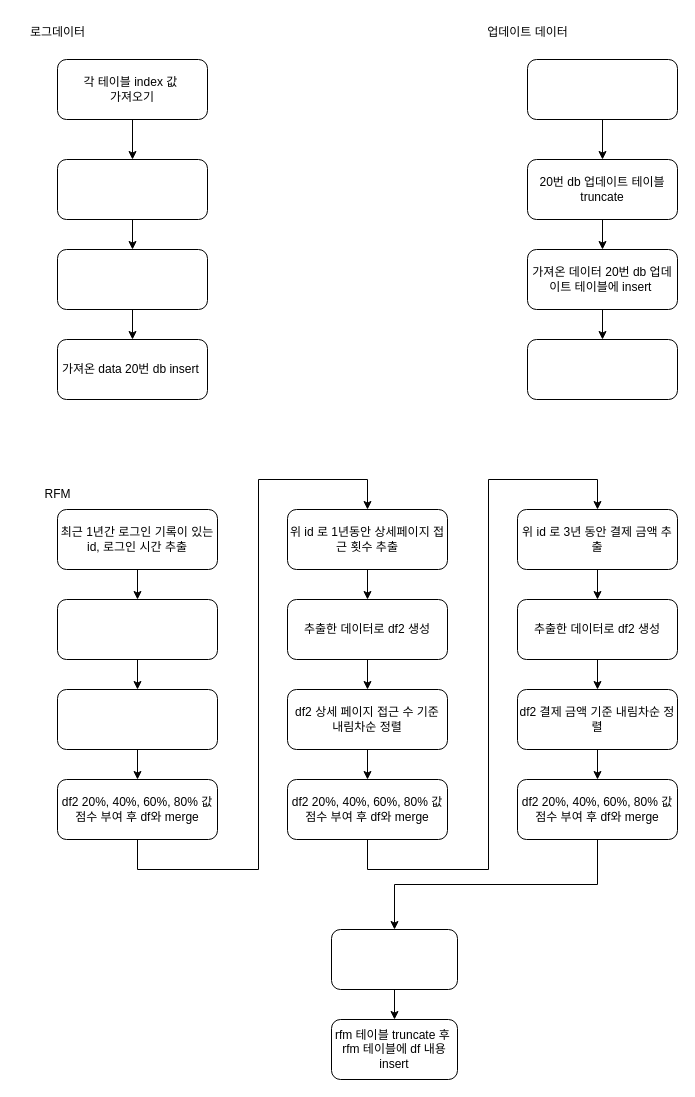
Image size: 695x1097. Some labels were removed from this diagram. Here are the shapes that lost their labels. From the top down, the box of each, then its label:
(526, 58, 678, 120): 19번 db 각 테이블 전체 데이터 가져오기
(56, 158, 208, 220): 19번 db 해당 테이블 현시점 마지막 index값 가져오기
(56, 248, 208, 310): 각 테이블 인덱스 값+1 ~ 현시점 마지막 index값 데이터 select
(526, 338, 678, 400): 20번 db 업데이트 테이블, 본 테이블 merge
(56, 598, 218, 660): 추출한 데이터로 데이터프레임 2개 생성 (df, df2)
(56, 688, 218, 750): df2 로그인 시간 기준 내림차순 정렬(일 단위)
(330, 928, 458, 990): rfm 합산, 합산 값 유저 계층 부여
